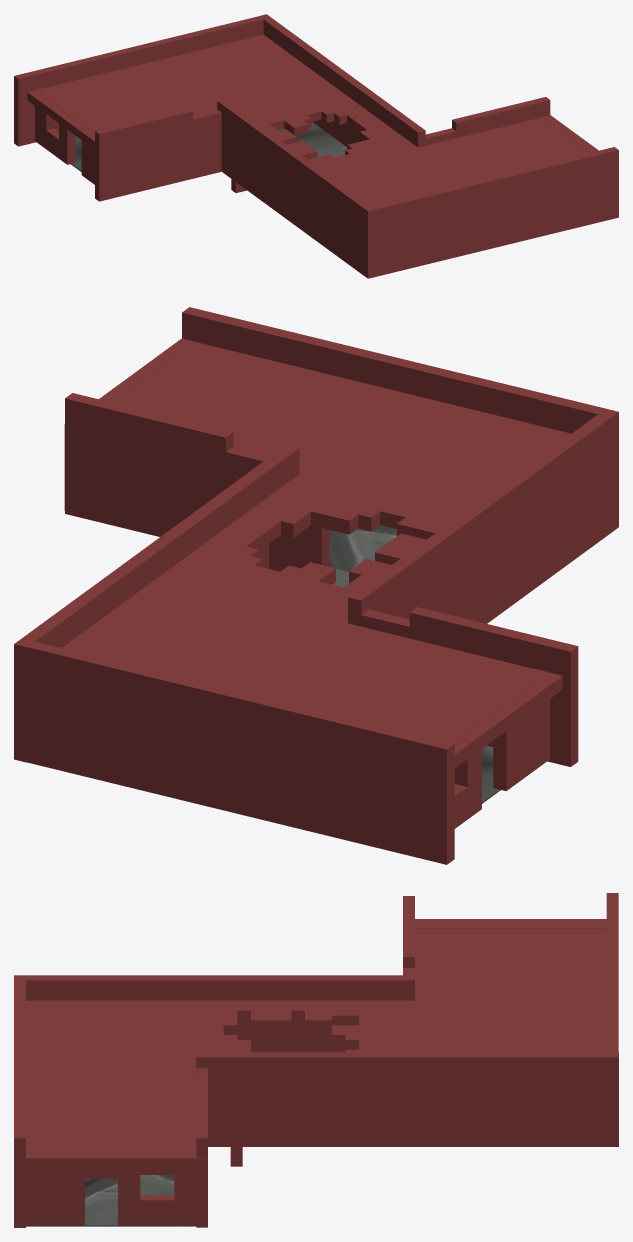
The model's file is Mid_House.fbx.
3 renders of one model, top to bottom at view 1: azimuth 30°, elevation 25°; view 2: azimuth 150°, elevation 25°; view 3: azimuth 270°, elevation 25°, orthographic. The views are drawn at different scales.
Visible parts, largest first — view 1: Cube, Cube.012, Cube.005, Cube.013, Cube.008, Cube.014, Cube.007, Cube.006, Cube.001, Cube.010, Cube.022, Cube.009; view 2: Cube.007, Cube.012, Cube.013, Cube.005, Cube.001, Cube.014, Cube, Cube.006, Cube.008, Cube.009, Cube.022, Cube.010 (+1 smaller); view 3: Cube.006, Cube.013, Cube.012, Cube.005, Cube.014, Cube.003, Cube.002, Cube, Cube.022, Cube.007, Cube.004, Cube.001 (+2 smaller).
Part boxes in pixels (left/top/right/bottom): Cube: left=365, top=147, right=618, bottom=278; Cube.012: left=27, top=34, right=335, bottom=149; Cube.005: left=217, top=99, right=372, bottom=276; Cube.013: left=323, top=117, right=590, bottom=205; Cube.008: left=95, top=108, right=221, bottom=201; Cube.014: left=241, top=88, right=417, bottom=170; Cube.007: left=14, top=16, right=263, bottom=146; Cube.006: left=259, top=14, right=425, bottom=147; Cube.001: left=425, top=97, right=550, bottom=145; Cube.010: left=35, top=88, right=75, bottom=164; Cube.022: left=70, top=122, right=347, bottom=171; Cube.009: left=81, top=122, right=98, bottom=184; Cube.007: left=27, top=641, right=454, bottom=864; Cube.012: left=62, top=576, right=562, bottom=768; Cube.013: left=112, top=342, right=570, bottom=513; Cube.005: left=348, top=412, right=613, bottom=624; Cube.001: left=65, top=393, right=270, bottom=536; Cube.014: left=160, top=474, right=461, bottom=622; Cube: left=182, top=307, right=618, bottom=530; Cube.006: left=14, top=445, right=299, bottom=762; Cube.008: left=356, top=599, right=578, bottom=766; Cube.009: left=493, top=669, right=549, bottom=791; Cube.022: left=329, top=525, right=500, bottom=803; Cube.010: left=440, top=719, right=481, bottom=828; Cube.006: left=196, top=1052, right=618, bottom=1146; Cube.013: left=26, top=1000, right=196, bottom=1153; Cube.012: left=413, top=919, right=606, bottom=1052; Cube.005: left=22, top=975, right=414, bottom=1052; Cube.014: left=196, top=1000, right=412, bottom=1052; Cube.003: left=118, top=1153, right=207, bottom=1225; Cube.002: left=25, top=1153, right=84, bottom=1225; Cube: left=14, top=975, right=25, bottom=1227; Cube.022: left=26, top=1175, right=196, bottom=1226; Cube.007: left=606, top=893, right=618, bottom=1052; Cube.004: left=67, top=1153, right=123, bottom=1178; Cube.001: left=196, top=1068, right=207, bottom=1227.
Size of the model in its own units: 4121 by 895 by 4298.
